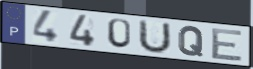0: (105, 18, 132, 50)
4: (31, 8, 61, 46), (68, 14, 97, 48)
E: (210, 27, 245, 62)
Q: (177, 25, 205, 58)
U: (137, 18, 173, 55)
